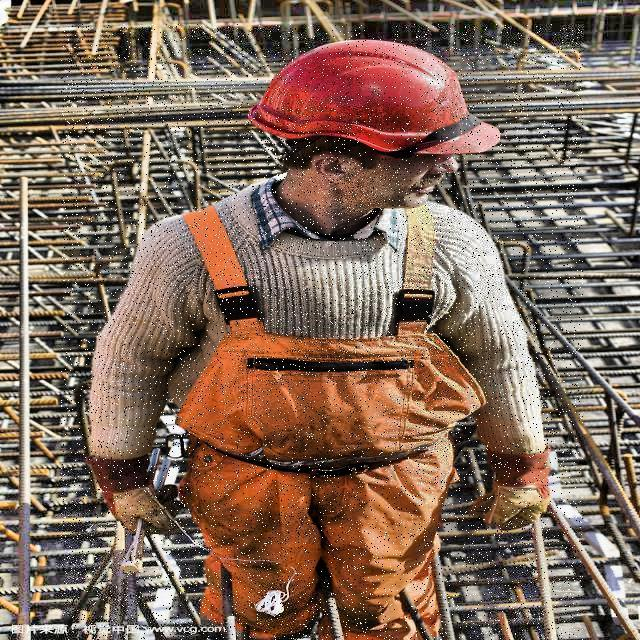safety_helmet: (240, 31, 509, 162)
safety_jacket: (172, 202, 482, 469)
